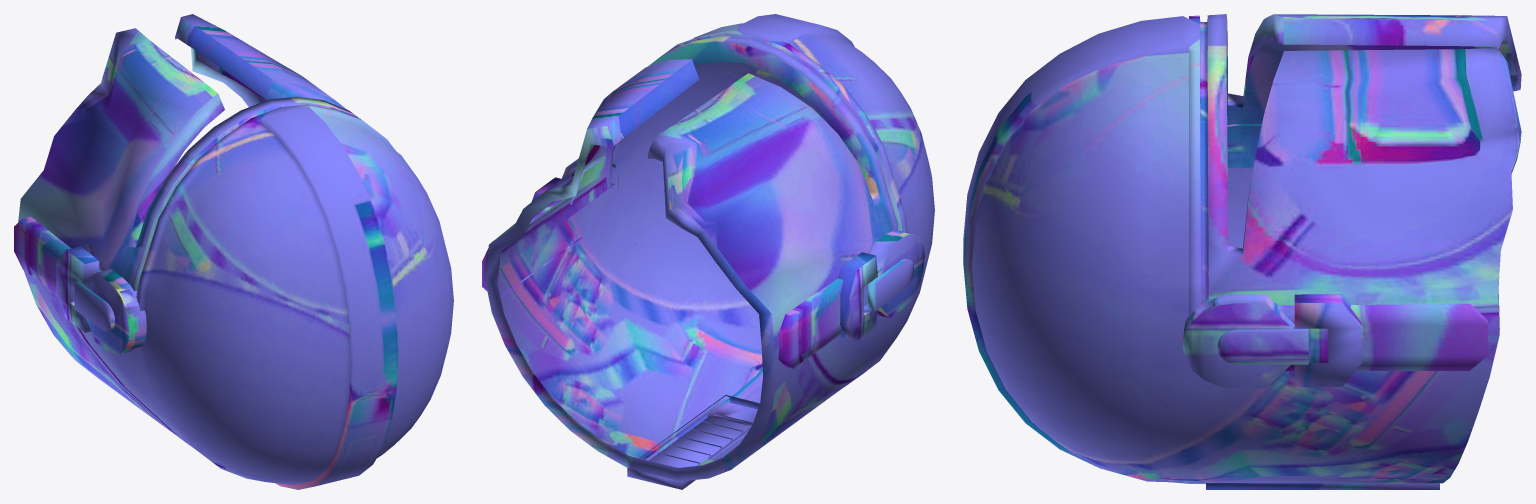
Rendered from Headwear62.glb.
The picture shows the model from 3 angles, left to right: view 1: azimuth 30°, elevation 25°; view 2: azimuth 150°, elevation 25°; view 3: azimuth 270°, elevation 25°; orthographic projection. The views are drawn at different scales.
Visible parts, largest first — view 1: Headwear62; view 2: Headwear62; view 3: Headwear62.
Boxes of the visible parts, left/top/right/bottom form: Headwear62: left=14, top=14, right=453, bottom=489; Headwear62: left=482, top=14, right=934, bottom=489; Headwear62: left=963, top=14, right=1521, bottom=489.
Size of the model in its own units: 1.88 by 2.03 by 2.29.
Materials: 1 (1 with a texture image).
